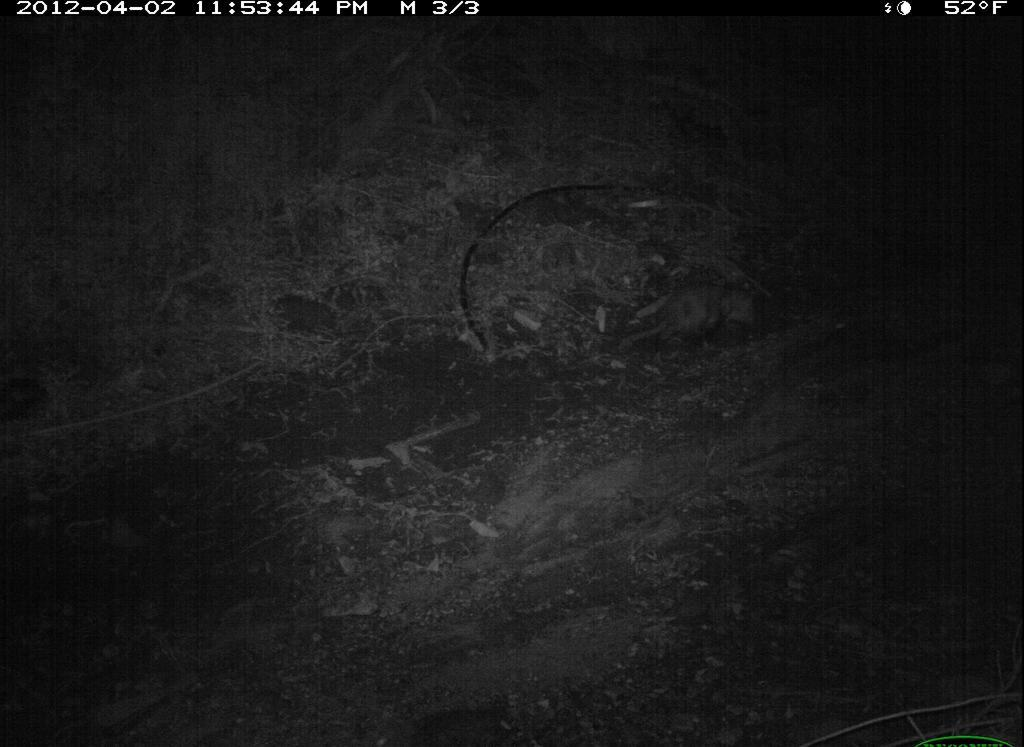opossum: (616, 273, 765, 360)
